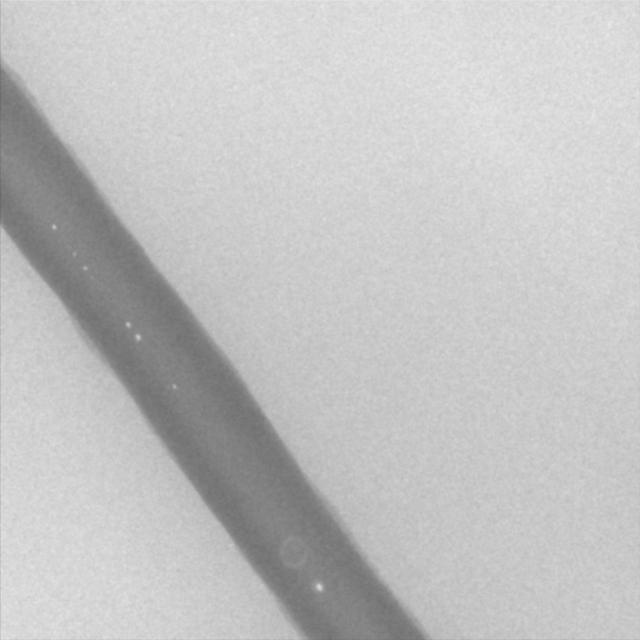air hole: (312, 579, 325, 595), (133, 333, 143, 343), (49, 221, 58, 232), (169, 381, 177, 392), (123, 318, 131, 329), (82, 263, 90, 273)
hollow bead: (278, 535, 311, 570)
